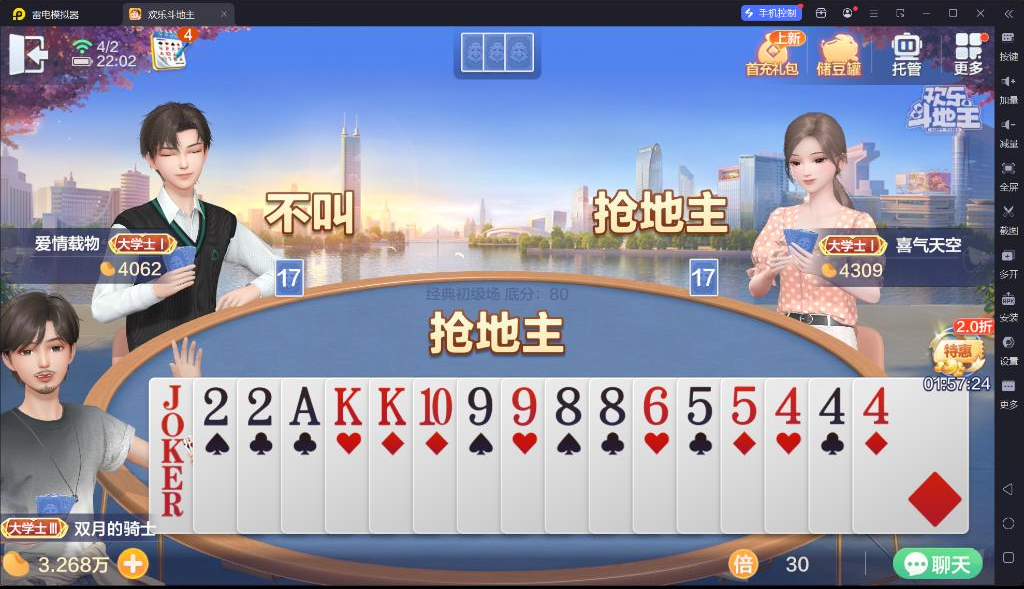A: (286, 384, 322, 428)
JOKER: (159, 381, 186, 467)
K: (374, 383, 408, 426), (330, 383, 364, 426)
eight: (552, 382, 584, 428), (595, 382, 627, 428)
five: (684, 383, 716, 427), (728, 382, 758, 426)
four: (771, 382, 803, 425), (816, 385, 848, 428), (861, 384, 892, 426)
nine: (508, 382, 540, 428), (462, 384, 494, 428)
six: (639, 382, 670, 426)
ten: (415, 383, 452, 427)
two: (244, 384, 276, 428), (201, 384, 231, 428)
